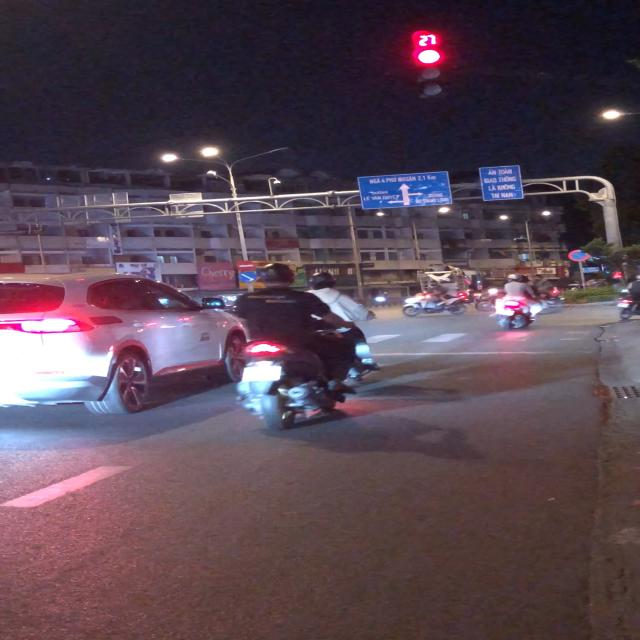Bien bao cam di nguoc chieu: (233, 260, 256, 270)
Bien bao cam do xe: (566, 249, 591, 262)
Bien bao huong phai di vong chuong ngai vat: (238, 270, 260, 284)
